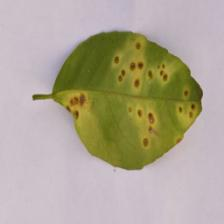canker: (68, 36, 211, 146)
